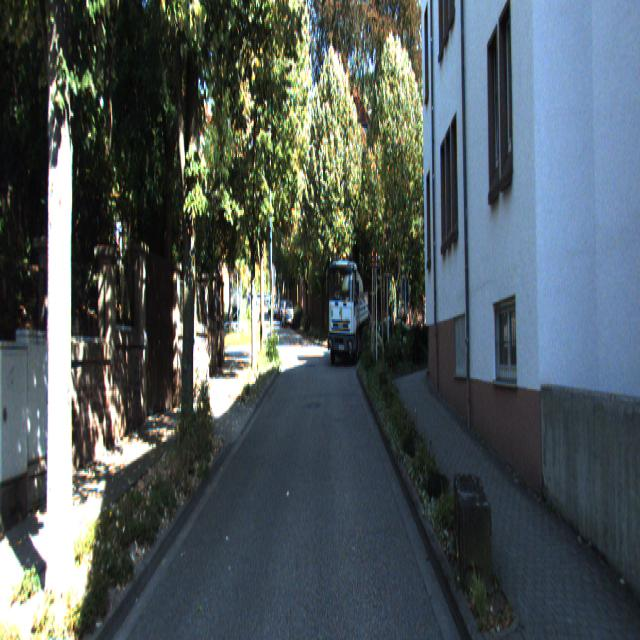Car: (328, 259, 370, 372), (283, 299, 294, 329)
